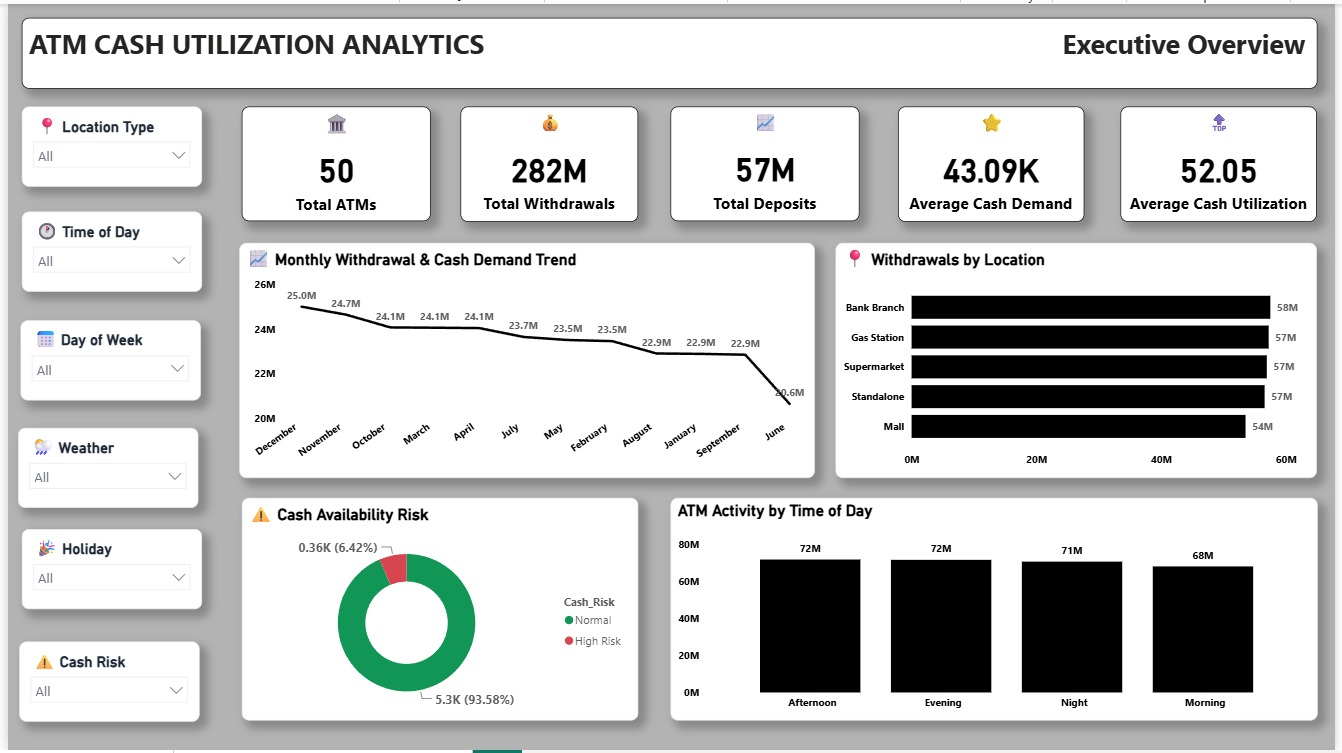

The dashboard page shown, as its layout file describes it:
{"tool":"powerbi","page":{"name":"ATM Network Overview","canvas":[1600,900],"ordinal":0},"visuals":[{"type":"textbox","box":[16.8,16.8,1563,85.9],"z":0},{"type":"slicer","fields":{"Values":["atm_data.Location_Type"]},"box":[16.8,123.2,217.2,96.6],"z":1000},{"type":"slicer","fields":{"Values":["atm_data.Time_of_Day"]},"box":[16.8,250.2,217.2,96.6],"z":2000},{"type":"slicer","fields":{"Values":["atm_data.Day_of_Week"]},"box":[14.9,381,217.2,96.6],"z":3000},{"type":"slicer","fields":{"Values":["atm_data.Weather_Condition"]},"box":[12,511.2,217.2,96.6],"z":4000},{"type":"slicer","fields":{"Values":["atm_data.Holiday_Flag"]},"box":[16.8,633.1,217.2,96.6],"z":5000},{"type":"slicer","fields":{"Values":["atm_data.Cash_Risk"]},"box":[13.7,768.4,217.2,96.6],"z":6000},{"type":"card","title":"🏛️","fields":{"Values":["atm_data.Total ATMs"]},"box":[282,123.2,227.8,138.2],"z":7000},{"type":"card","title":"💰","fields":{"Values":["atm_data.Total Withdrawals"]},"box":[545.3,123.2,214.4,138.9],"z":8000},{"type":"card","title":"📈","fields":{"Values":["atm_data.Total Deposits"]},"box":[799.3,123.2,227.8,138.2],"z":9000},{"type":"card","title":"⭐","fields":{"Values":["atm_data.Average Cash Demand"]},"box":[1073.8,123.2,224.7,138.9],"z":10000},{"type":"card","title":"🔝","fields":{"Values":["atm_data.Average Cash Utilization"]},"box":[1342.7,123.2,236.7,138.9],"z":11000},{"type":"lineChart","title":"📈 Monthly Withdrawal & Cash Demand Trend","fields":{"Category":["atm_data.Month_Name"],"Y":["atm_data.Total Withdrawals"]},"box":[278.2,287.6,694.7,283.8],"z":12000},{"type":"clusteredBarChart","title":"📍 Withdrawals by Location","fields":{"Category":["atm_data.Location_Type"],"Y":["Sum(atm_data.Total_Withdrawals)"]},"box":[999.1,287.6,580.8,283.8],"z":13000},{"type":"donutChart","title":"⚠️ Cash Availability Risk","fields":{"Category":["atm_data.Cash_Risk"],"Y":["CountNonNull(atm_data.Cash_Risk)"]},"box":[282,595.7,478.1,268.9],"z":14000},{"type":"clusteredColumnChart","title":"ATM Activity by Time of Day","fields":{"Category":["atm_data.Time_of_Day"],"Y":["Sum(atm_data.Total_Withdrawals)"]},"box":[799.3,595.7,780.6,268.9],"z":15000}]}

Visuals, with their boxes in screenshot pixels (x1, y1, x2, y2), scaled from the page's 1600x900 canvas onto the 1342x753 screenshot:
textbox: left=14, top=14, right=1325, bottom=86
slicer - atm_data.Location_Type: left=14, top=103, right=196, bottom=184
slicer - atm_data.Time_of_Day: left=14, top=209, right=196, bottom=290
slicer - atm_data.Day_of_Week: left=12, top=319, right=195, bottom=400
slicer - atm_data.Weather_Condition: left=10, top=428, right=192, bottom=509
slicer - atm_data.Holiday_Flag: left=14, top=530, right=196, bottom=611
slicer - atm_data.Cash_Risk: left=11, top=643, right=194, bottom=724
"🏛️" card: left=237, top=103, right=428, bottom=219
"💰" card: left=457, top=103, right=637, bottom=219
"📈" card: left=670, top=103, right=861, bottom=219
"⭐" card: left=901, top=103, right=1089, bottom=219
"🔝" card: left=1126, top=103, right=1325, bottom=219
"📈 Monthly Withdrawal & Cash Demand Trend" lineChart: left=233, top=241, right=816, bottom=478
"📍 Withdrawals by Location" clusteredBarChart: left=838, top=241, right=1325, bottom=478
"⚠️ Cash Availability Risk" donutChart: left=237, top=498, right=638, bottom=723
"ATM Activity by Time of Day" clusteredColumnChart: left=670, top=498, right=1325, bottom=723
